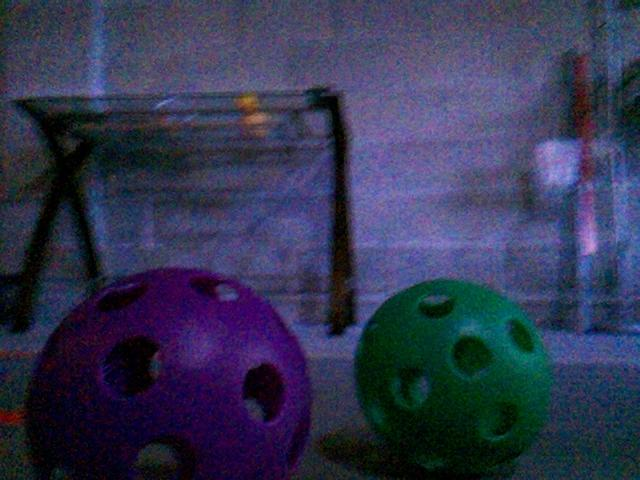Green: (350, 279, 552, 474)
Purple: (26, 266, 310, 480)
